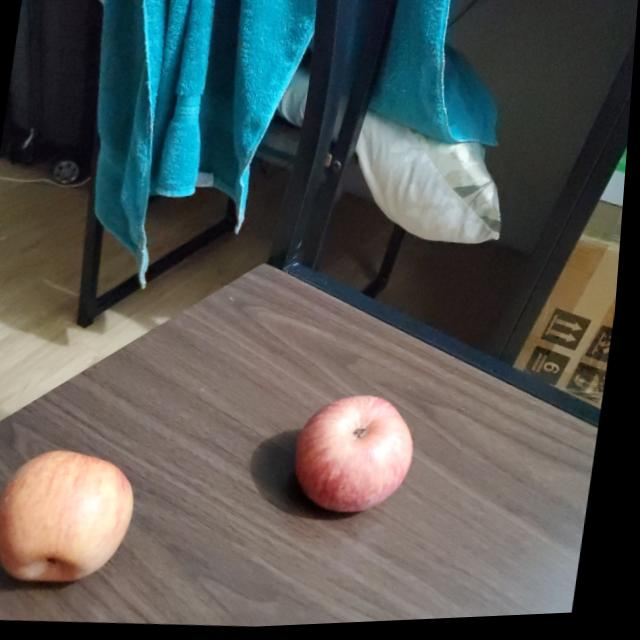apple: (0, 447, 145, 595), (296, 395, 428, 523)
